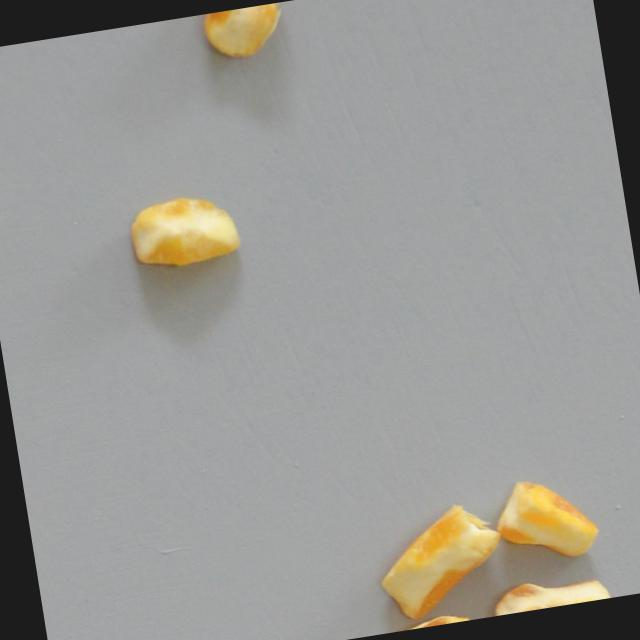dañado: (367, 495, 515, 628), (484, 465, 609, 574), (118, 187, 250, 281), (198, 1, 299, 69), (490, 567, 618, 616), (385, 606, 477, 633)
